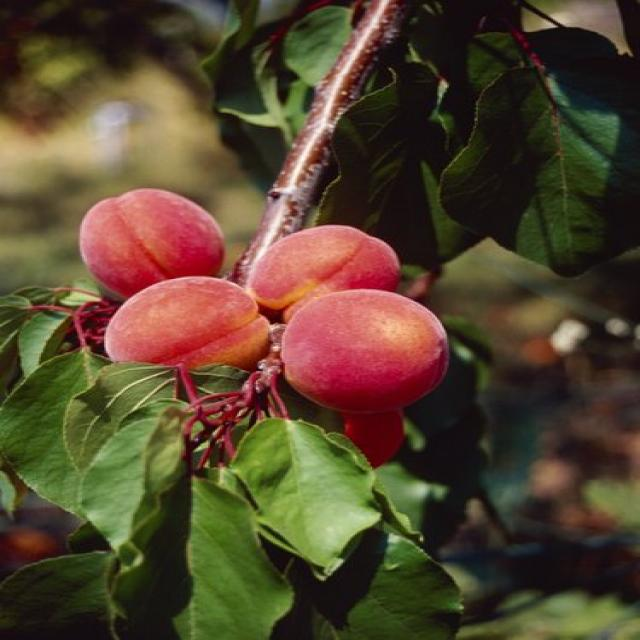peach: (4, 188, 454, 640)
